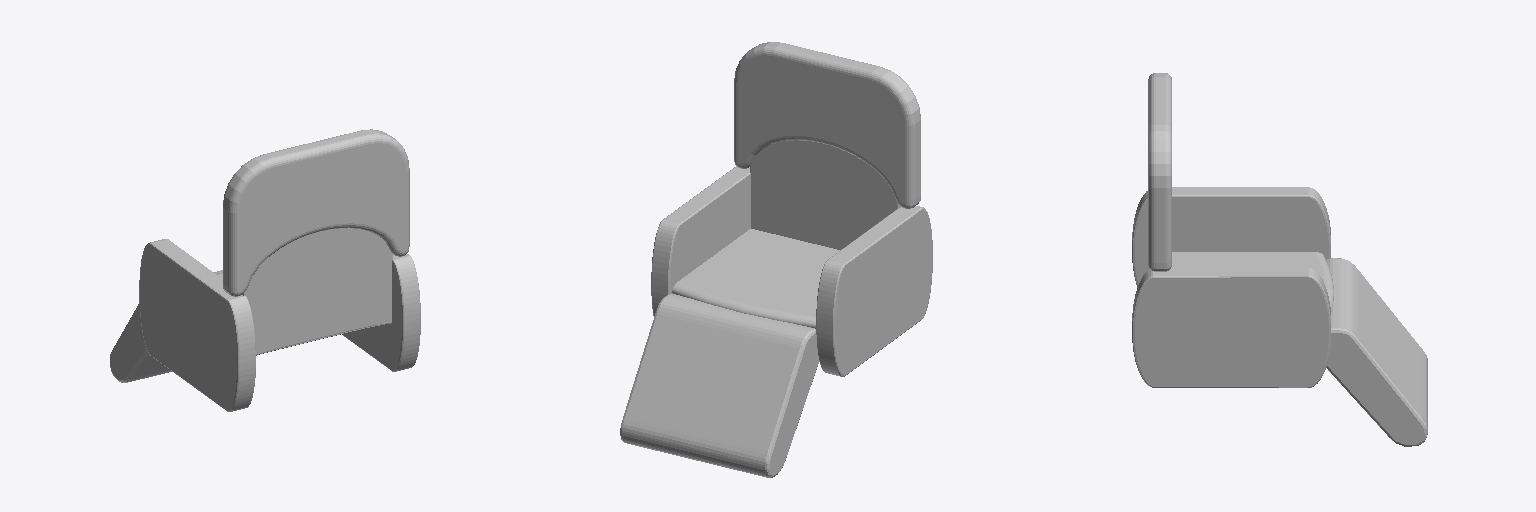
File: seat.obj
3 renders of one model, left to right at view 1: azimuth 30°, elevation 25°; view 2: azimuth 150°, elevation 25°; view 3: azimuth 270°, elevation 25°, orthographic.
Parts seen in each view (by area): view 1: Plane_Plane.021, Plane.005_Plane.020, Plane.003_Plane.018, Plane.004_Plane.019, Plane.001_Plane.013; view 2: Plane.001_Plane.013, Plane_Plane.021, Plane.003_Plane.018, Plane.005_Plane.020, Plane.000_Plane.016, Plane.004_Plane.019; view 3: Plane.004_Plane.019, Plane.001_Plane.013, Plane.003_Plane.018, Plane_Plane.021, Plane.000_Plane.016.
Boxes of the visible parts, x1,y1,x2,y2 form: Plane_Plane.021: [223, 129, 409, 296]; Plane.005_Plane.020: [242, 228, 392, 354]; Plane.003_Plane.018: [139, 239, 255, 411]; Plane.004_Plane.019: [342, 254, 420, 371]; Plane.001_Plane.013: [110, 270, 222, 382]; Plane.001_Plane.013: [620, 294, 818, 477]; Plane_Plane.021: [734, 42, 920, 208]; Plane.003_Plane.018: [816, 206, 932, 376]; Plane.005_Plane.020: [750, 140, 900, 249]; Plane.000_Plane.016: [672, 229, 839, 328]; Plane.004_Plane.019: [651, 166, 750, 315]; Plane.004_Plane.019: [1132, 268, 1330, 387]; Plane.001_Plane.013: [1326, 258, 1427, 446]; Plane.003_Plane.018: [1132, 187, 1330, 287]; Plane_Plane.021: [1148, 73, 1171, 271]; Plane.000_Plane.016: [1171, 252, 1333, 311].
Bounding box in the file's own units: 0.793 × 1.28 × 1.11.